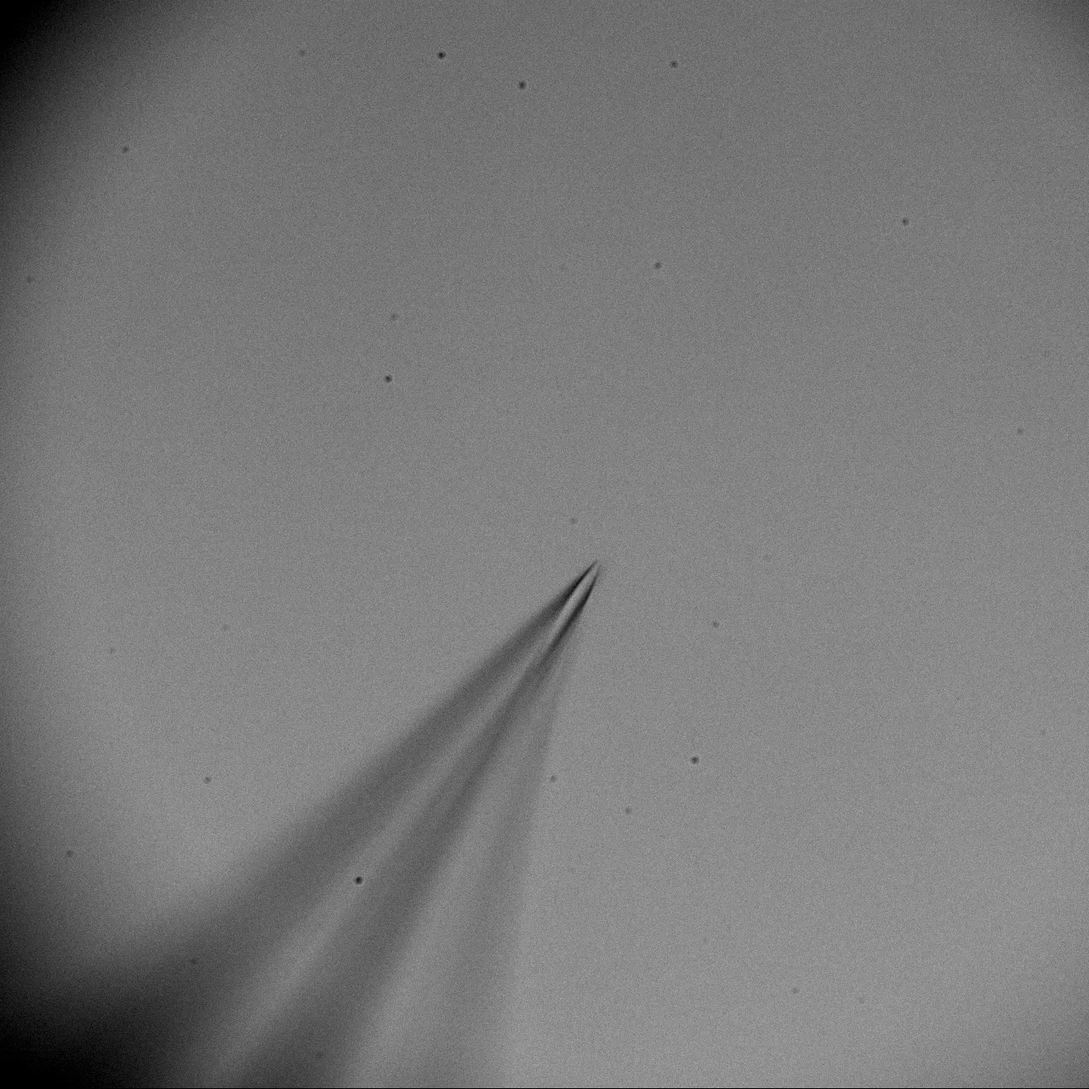tip: (510, 543, 616, 672)
